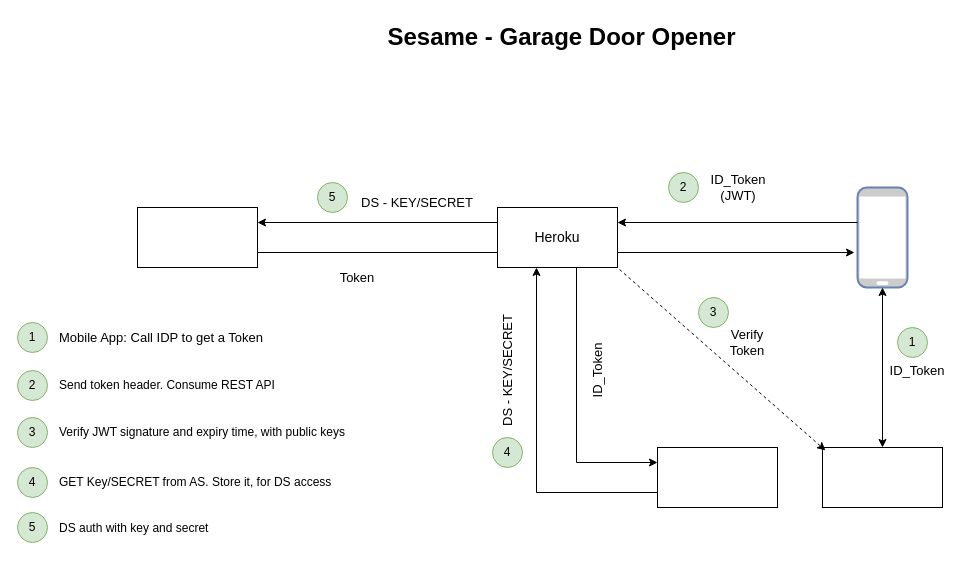
This 962x567 diagram has some shape labels left out. Here are the shapes that lost their labels. From the top down, the centre of each, then its label:
At point 197,237: "Device Server".
At point 717,477: "AS".
At point 882,477: "IDP".
